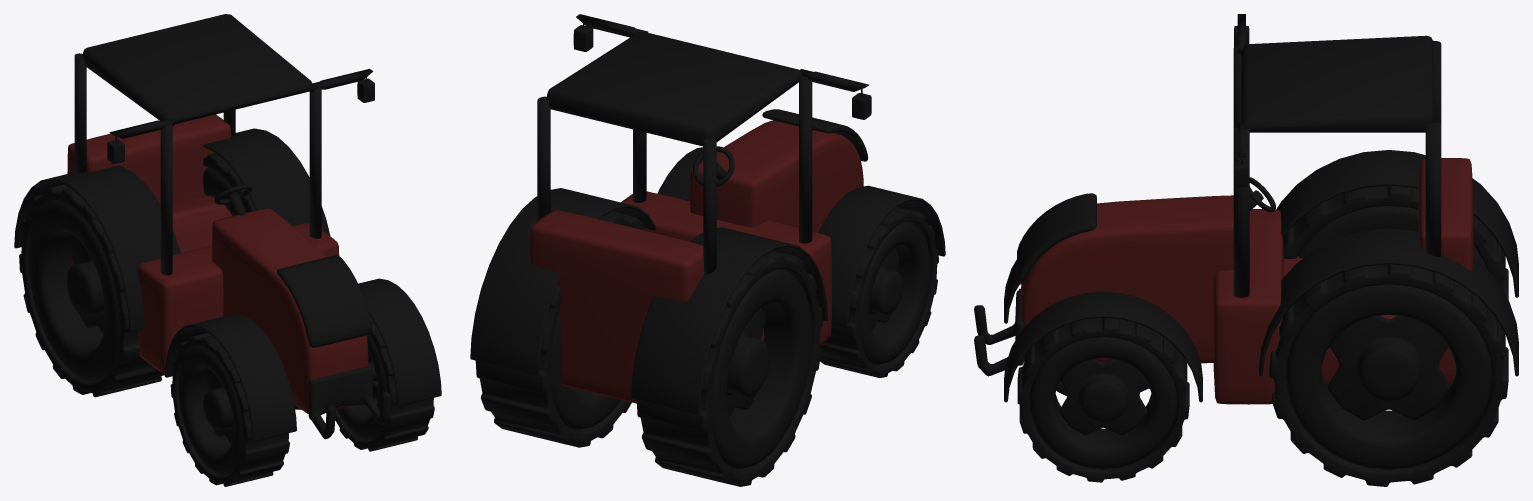
File: TractorNew.fbx
3 views of the same model, side by side, from view 1: azimuth 30°, elevation 25°; view 2: azimuth 150°, elevation 25°; view 3: azimuth 270°, elevation 25° (orthographic). The views are drawn at different scales.
Parts seen in each view (by area): view 1: Cube.005, rear right wheel, Plane.001, Cylinder.018, Cylinder.012, front right wheel, Cube.006, front left wheel, Cylinder.014, Cube.007, Cylinder.015, rear left wheel (+2 smaller); view 2: Cube.005, rear right wheel, Cylinder.018, Plane.001, front right wheel, rear left wheel, Cylinder.012, Cylinder.015, Cylinder.014, Cube.008, Cube.006, Cube.009 (+1 smaller); view 3: rear left wheel, Cube.005, front left wheel, Plane.001, Cylinder.018, rear right wheel, Cylinder.012, Cube.006, Cylinder.015, Cylinder.014, Cube.007, Cube.008.
Boxes of the visible parts, x1=… form: Cube.005: x1=67, y1=114, x2=368, y2=413; rear right wheel: x1=19, y1=184, x2=164, y2=397; Plane.001: x1=83, y1=14, x2=312, y2=124; Cylinder.018: x1=14, y1=128, x2=330, y2=332; Cylinder.012: x1=164, y1=278, x2=441, y2=441; front right wheel: x1=170, y1=333, x2=289, y2=486; Cube.006: x1=277, y1=255, x2=371, y2=347; front left wheel: x1=335, y1=315, x2=434, y2=451; Cylinder.014: x1=160, y1=87, x2=321, y2=275; Cube.007: x1=308, y1=366, x2=391, y2=439; Cylinder.015: x1=74, y1=53, x2=235, y2=173; rear left wheel: x1=203, y1=153, x2=255, y2=215; Cube.005: x1=529, y1=120, x2=863, y2=403; rear right wheel: x1=636, y1=250, x2=822, y2=486; Cylinder.018: x1=470, y1=188, x2=827, y2=414; Plane.001: x1=547, y1=31, x2=802, y2=146; front right wheel: x1=819, y1=207, x2=938, y2=377; rear left wheel: x1=475, y1=211, x2=643, y2=447; Cylinder.012: x1=657, y1=147, x2=945, y2=327; Cylinder.015: x1=537, y1=96, x2=716, y2=274; Cylinder.014: x1=633, y1=34, x2=812, y2=243; Cube.008: x1=576, y1=14, x2=869, y2=91; Cube.006: x1=762, y1=109, x2=868, y2=161; Cube.009: x1=573, y1=25, x2=871, y2=119; rear left wheel: x1=1269, y1=264, x2=1508, y2=486; Cube.005: x1=1020, y1=158, x2=1473, y2=404; front left wheel: x1=1017, y1=317, x2=1189, y2=482; Plane.001: x1=1241, y1=35, x2=1433, y2=132; Cylinder.018: x1=1259, y1=150, x2=1518, y2=376; rear right wheel: x1=1283, y1=185, x2=1508, y2=299; Cylinder.012: x1=1004, y1=259, x2=1202, y2=402; Cube.006: x1=1017, y1=193, x2=1096, y2=285; Cylinder.015: x1=1425, y1=40, x2=1441, y2=256; Cylinder.014: x1=1233, y1=46, x2=1249, y2=297; Cube.007: x1=974, y1=290, x2=1024, y2=376; Cube.008: x1=1237, y1=14, x2=1245, y2=157.
Bounding box in the file's own units: 428 × 502 × 691.
